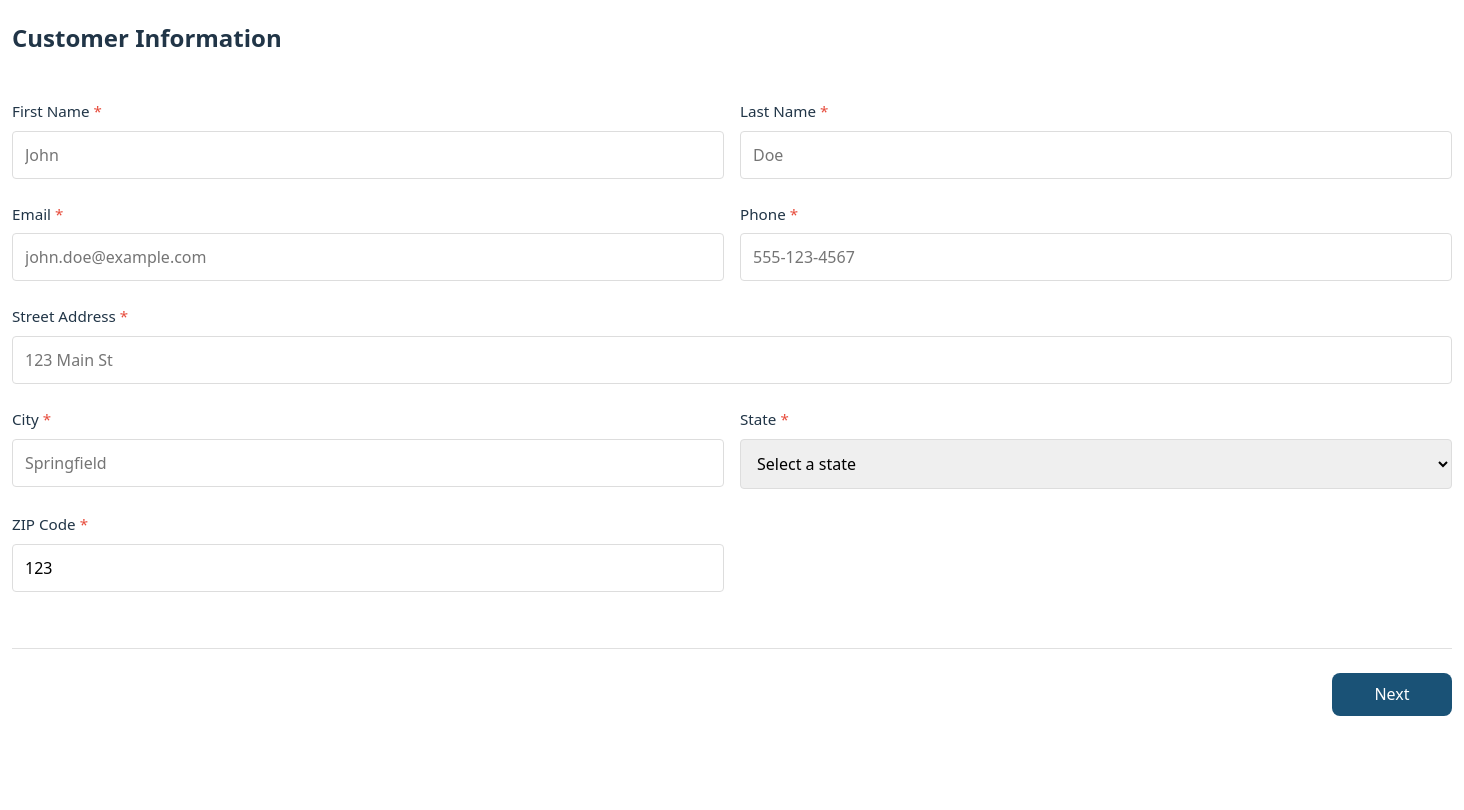
Test: CustomerInfo › shows zip validation error for invalid zip code
Step 1. Click the button "Next" → (1392, 694), box [1332,673,1452,716]
(page scrolled)
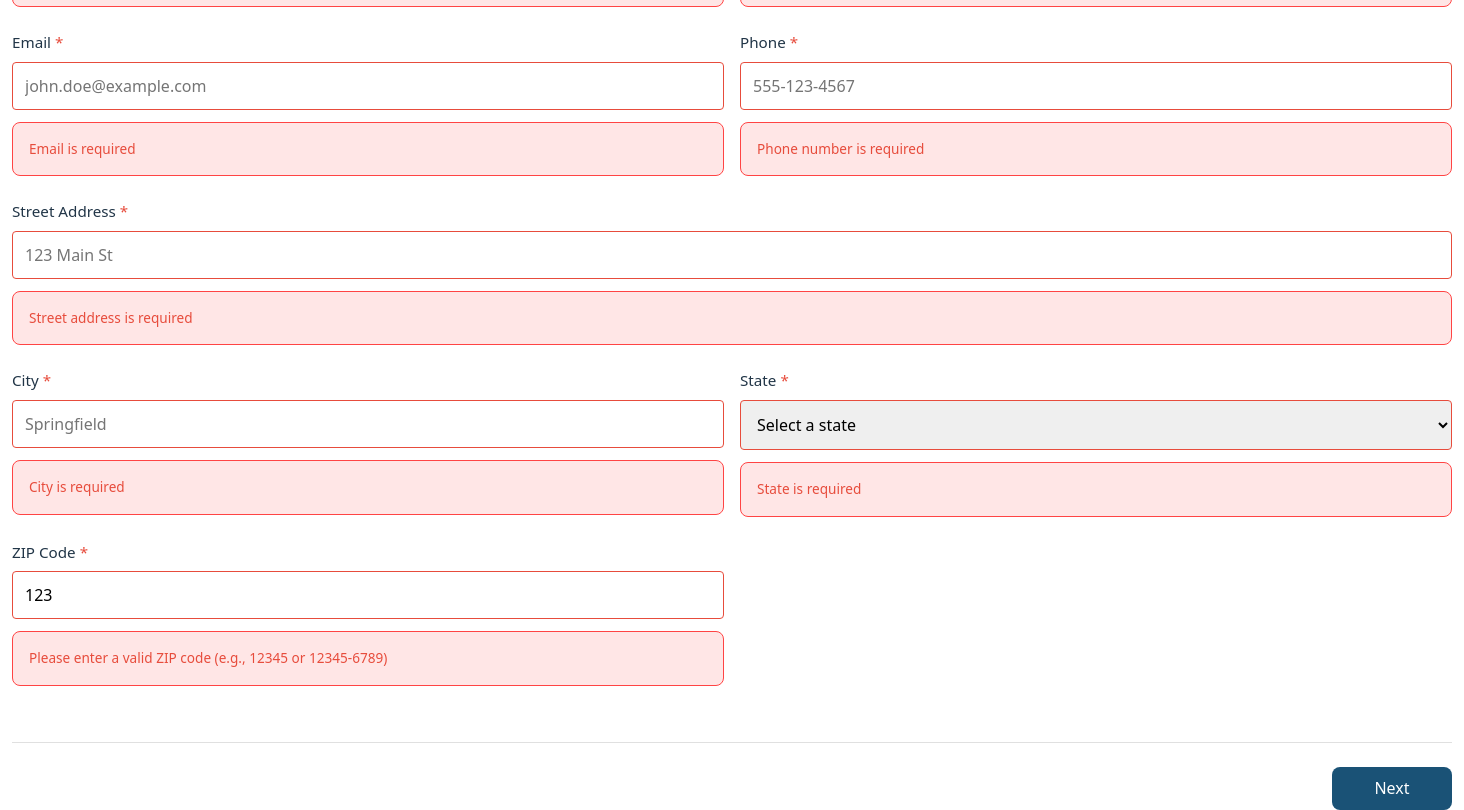
expect the text "Please enter a valid ZIP code (e.g., 12345 or 12345-6789)" is shown: met, box [12,631,724,686]
